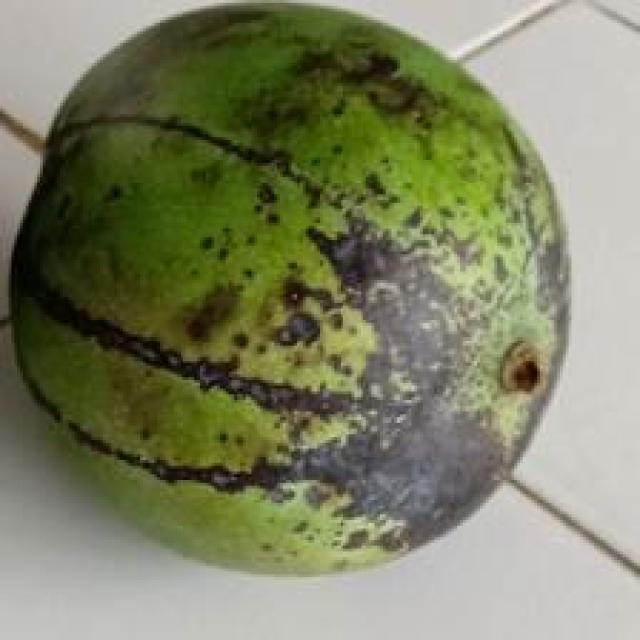Mango: (19, 25, 574, 570)
